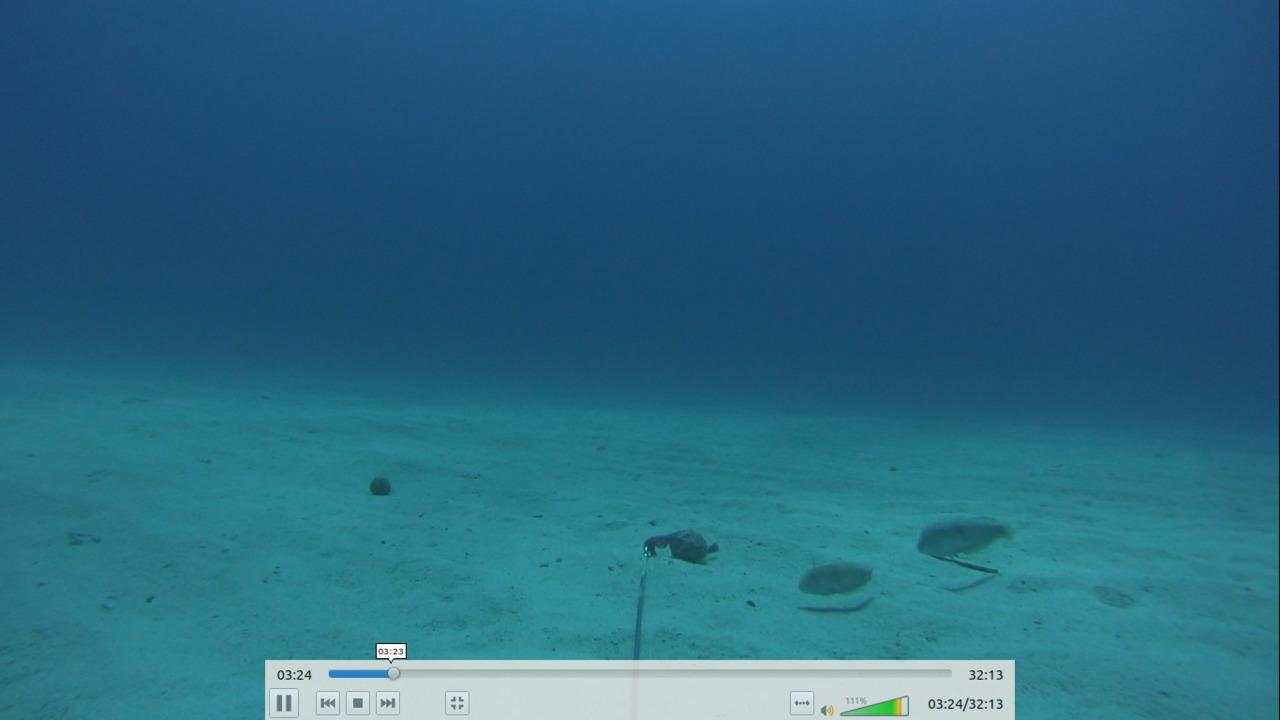raor: (913, 512, 1023, 562), (790, 554, 880, 598)
